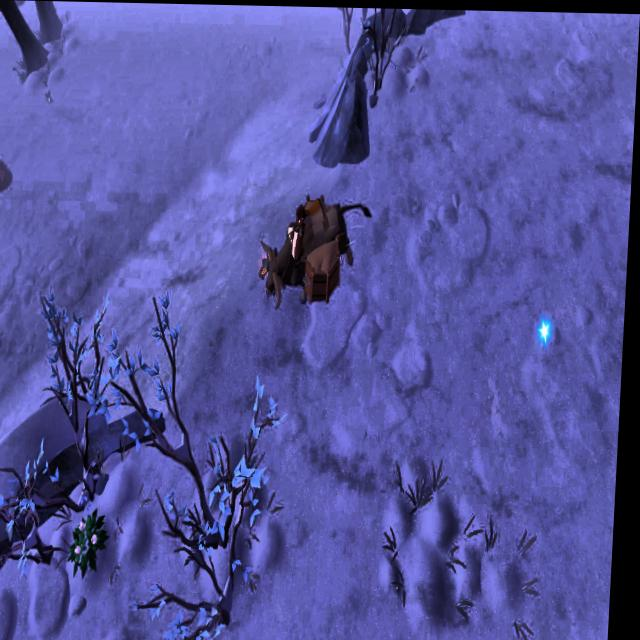fiber_t3: (75, 509, 112, 576)
